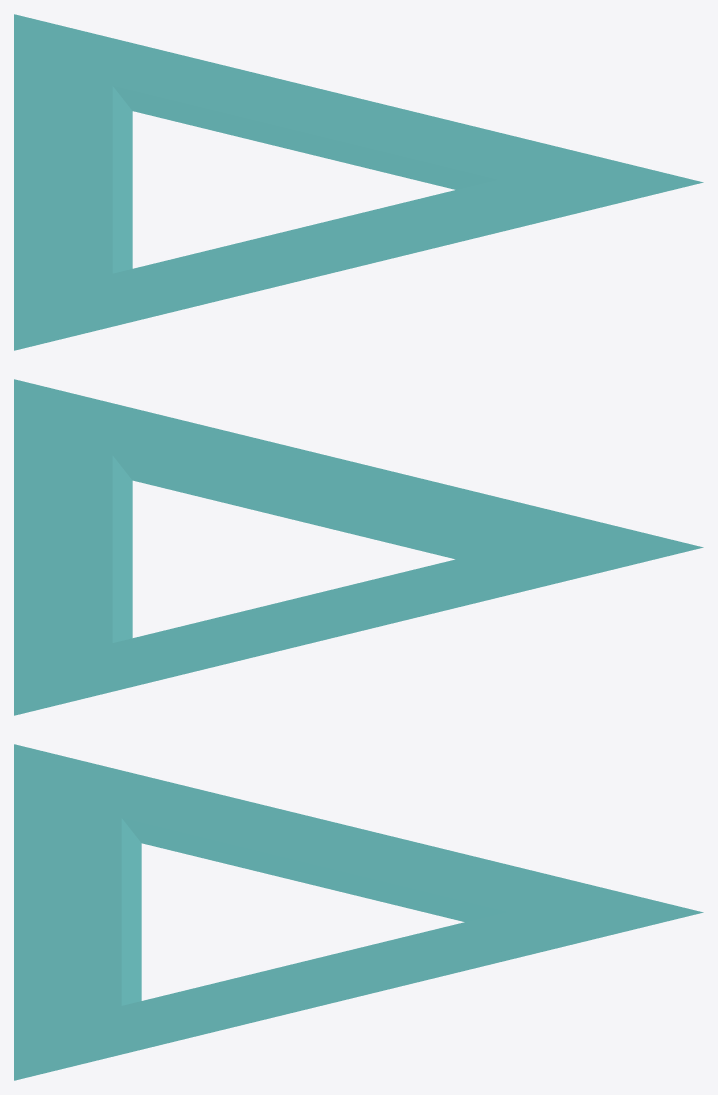
The picture shows the model from 3 angles, top to bottom: view 1: azimuth 30°, elevation 25°; view 2: azimuth 150°, elevation 25°; view 3: azimuth 270°, elevation 25°; orthographic projection.
Parts seen in each view (by area): view 1: SM_Dragons_Arena_Altar_VFX_EM_01_LOD0; view 2: SM_Dragons_Arena_Altar_VFX_EM_01_LOD0; view 3: SM_Dragons_Arena_Altar_VFX_EM_01_LOD0.
Part boxes in pixels (<box>): SM_Dragons_Arena_Altar_VFX_EM_01_LOD0: <box>14,14,703,350</box>; SM_Dragons_Arena_Altar_VFX_EM_01_LOD0: <box>14,379,703,715</box>; SM_Dragons_Arena_Altar_VFX_EM_01_LOD0: <box>14,744,703,1080</box>.
Size of the model in its own units: 1.19 by 0.0175 by 1.03.
Materials: 1 (1 with a texture image).
